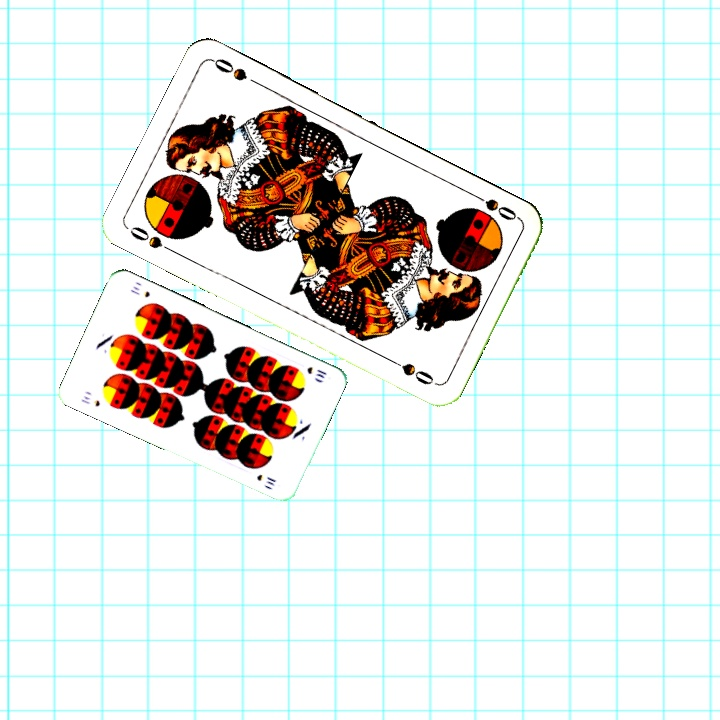S10: (303, 363, 329, 381), (77, 391, 103, 409)
SO: (467, 188, 522, 224), (125, 222, 179, 257)
